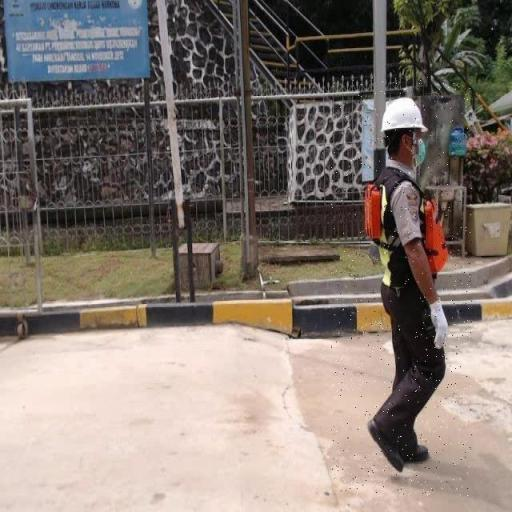Boots: (366, 414, 404, 478), (392, 438, 434, 464)
Glove: (425, 298, 453, 352)
Helmet: (380, 94, 430, 132)
Person: (331, 74, 472, 497)
